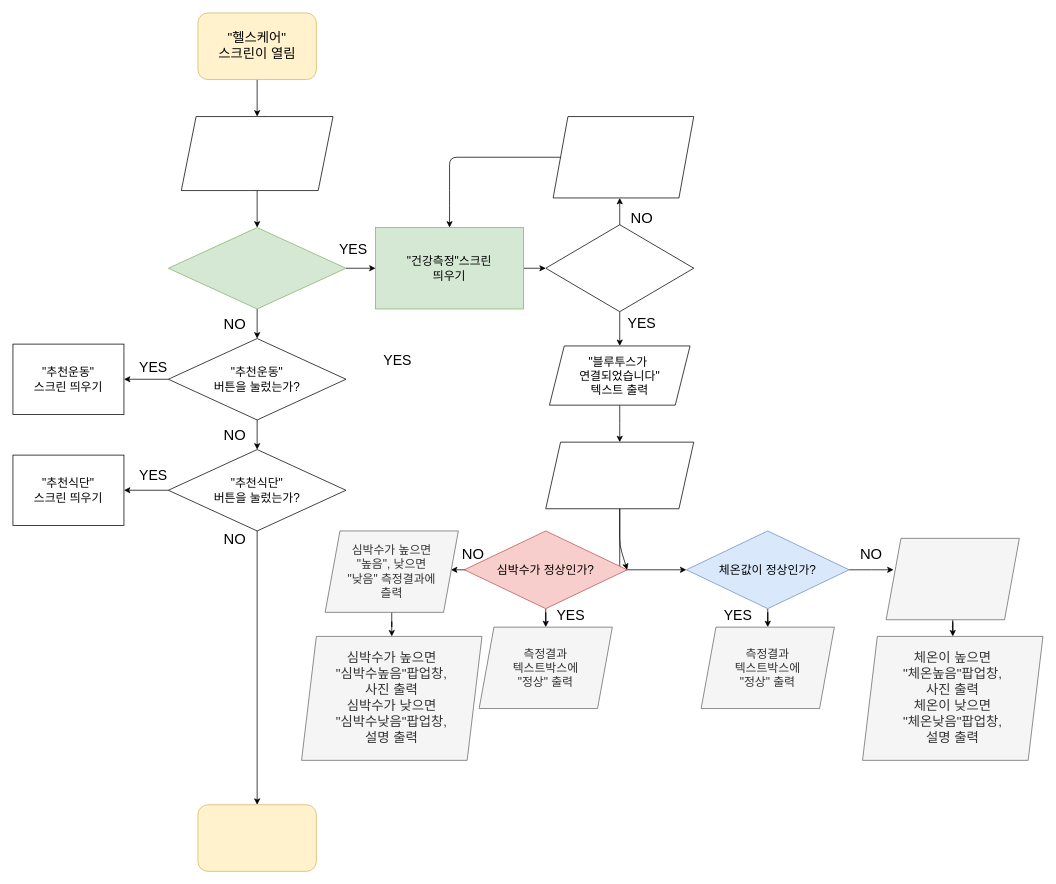
Some shapes in this 1056 by 884 pixel diagram are drawn without their labels. The centre of each missing label's shape, as x and y in pixels:
"건강측정시작" 버튼을 눌렀는가?: pixel 257 268
"블루투스가 끊겼습니다" 텍스트 출력: pixel 623 157
"헬스케어" 스크린 종료: pixel 256 837
블루투스가 연결되었는가?: pixel 619 268
블루투스값 각각 텍스트박스에 출력: pixel 619 475
저장소에서 선택한"저장소에서 선택한"사진" 출력: pixel 257 153
체온이 높으면 "높음", 낮으면 "낮음" 측정결과에 츨력: pixel 952 579
